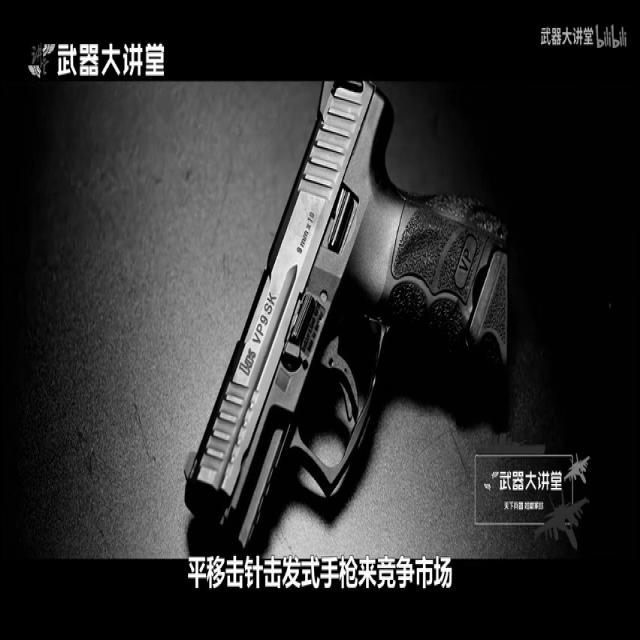Hand-Gun: (173, 49, 544, 601)
